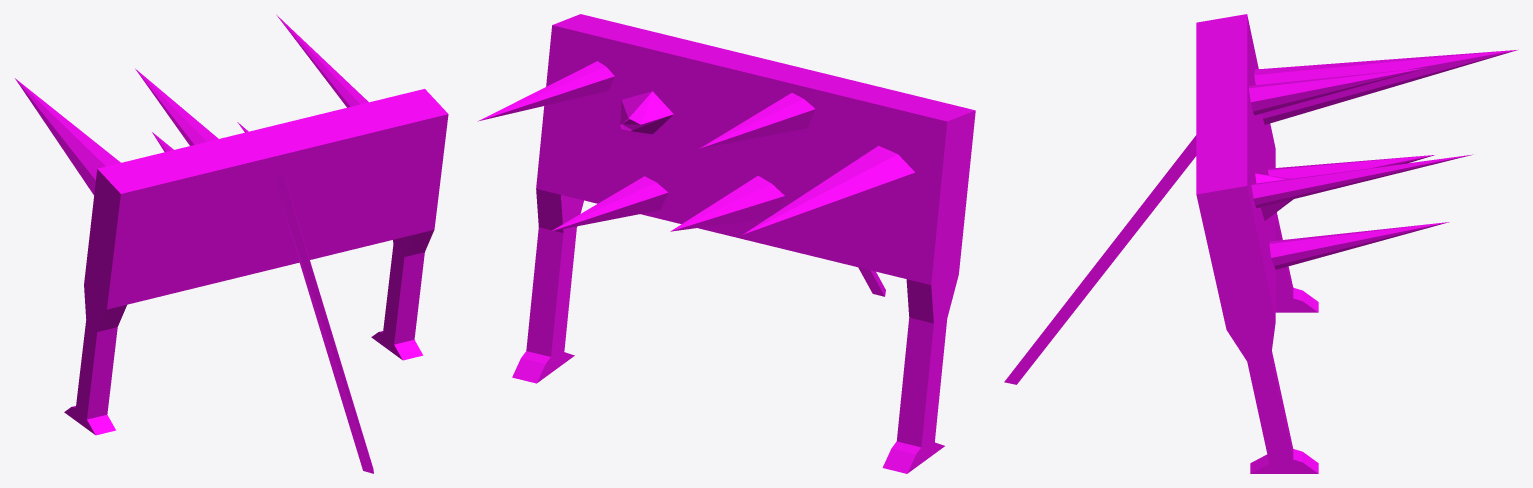
File: cave rocktrap1a.obj
The picture shows the model from 3 angles, left to right: view 1: azimuth 30°, elevation 25°; view 2: azimuth 150°, elevation 25°; view 3: azimuth 270°, elevation 25°; orthographic projection. The views are drawn at different scales.
Visible parts, largest first — view 1: cave rocktrap1a_back; view 2: cave rocktrap1a_back; view 3: cave rocktrap1a_back.
Part boxes in pixels (x1,y1,x2,y2): cave rocktrap1a_back: (15,14,448,473); cave rocktrap1a_back: (478,14,975,473); cave rocktrap1a_back: (1004,14,1518,473).
Bounding box in the file's own units: 2.56 × 2.07 × 3.24.
